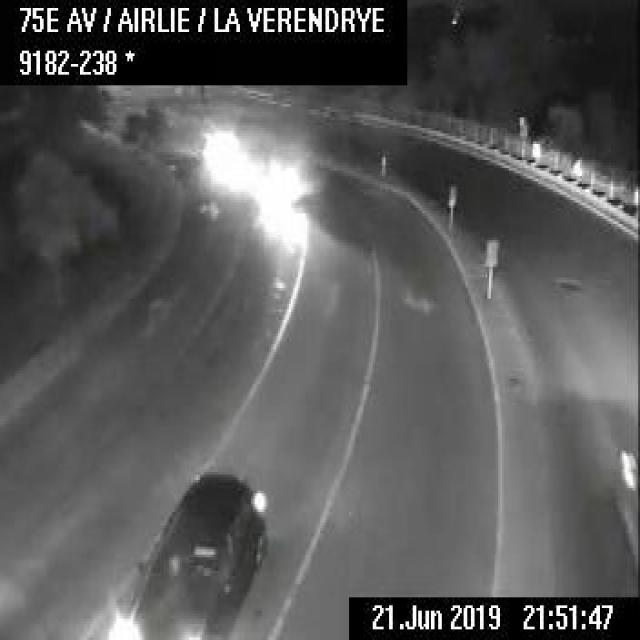vehicle: (109, 470, 268, 638), (607, 440, 638, 579)
